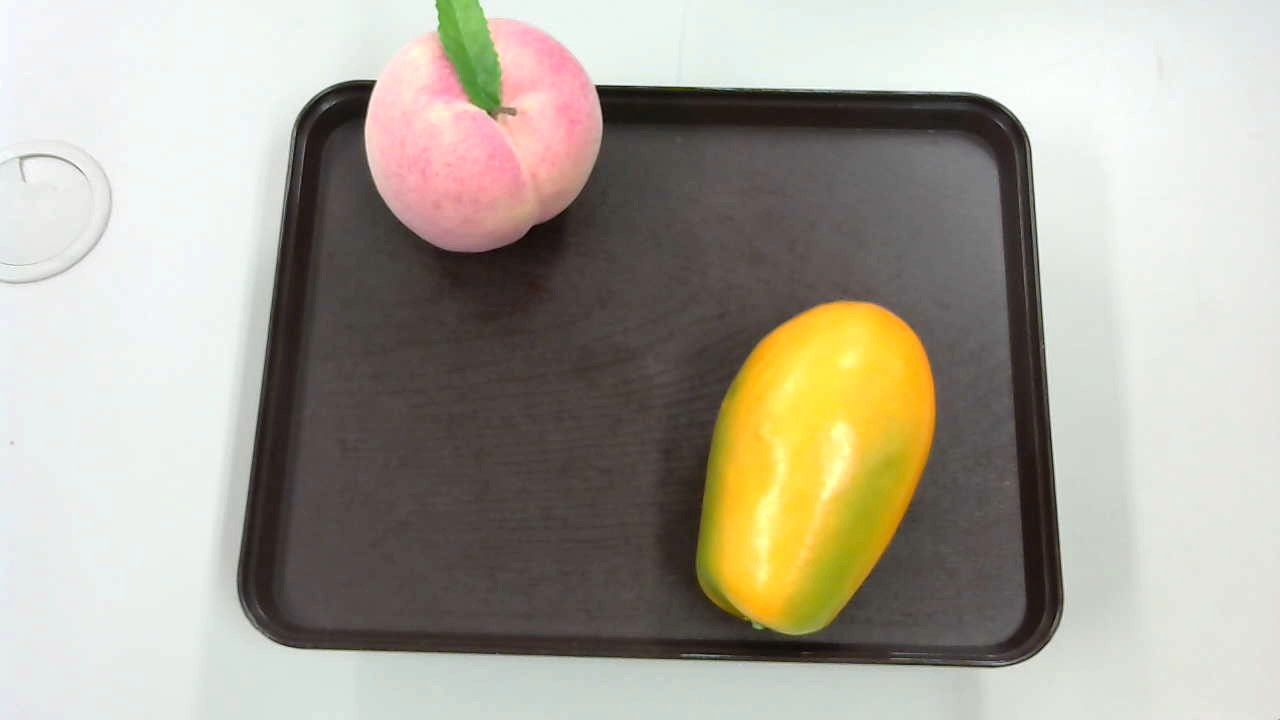papya: (682, 295, 945, 646)
peach: (354, 1, 614, 258)
